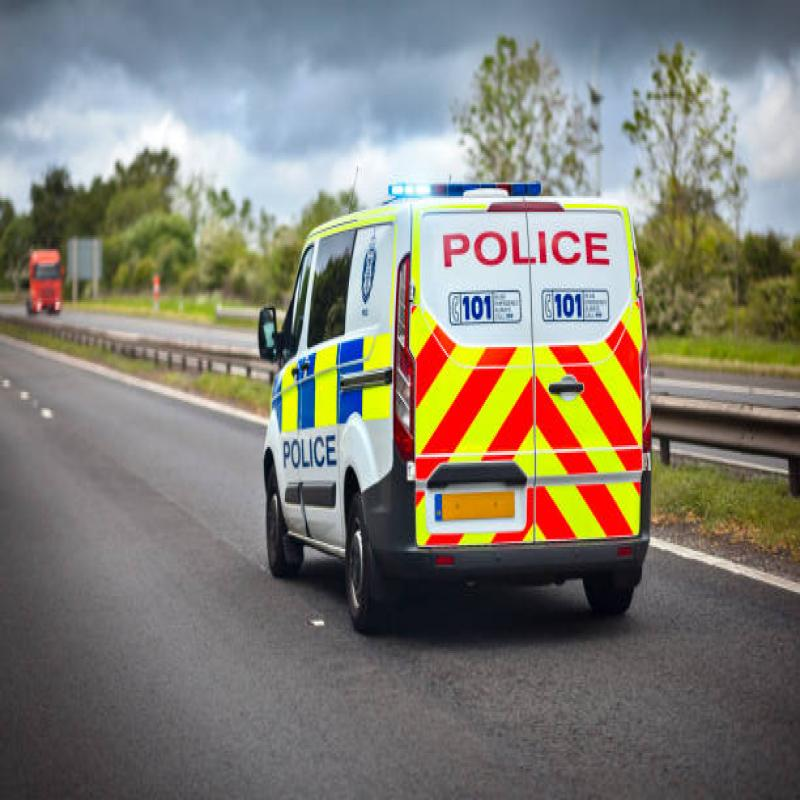AmbulanceSiren: (370, 156, 554, 234)
